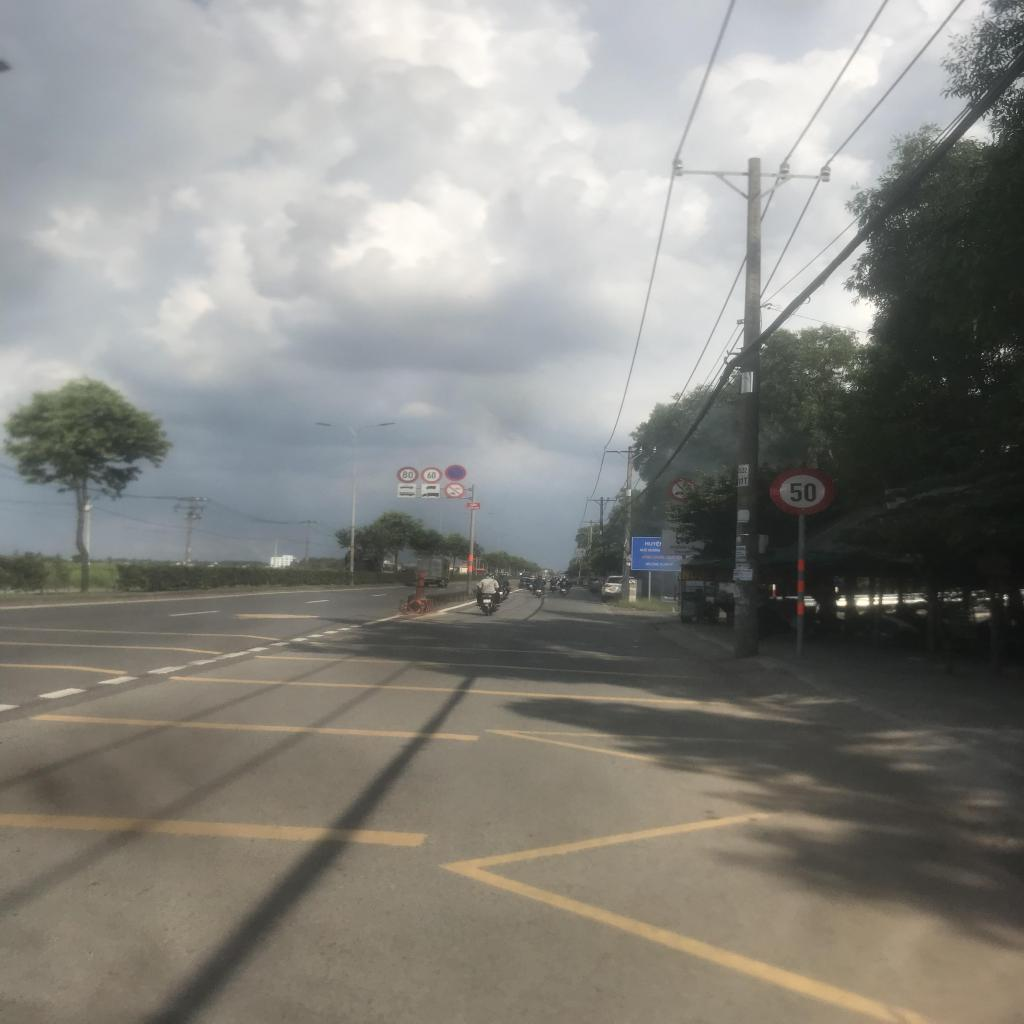cam_dung_xe_va_do_xe: (444, 464, 466, 482)
cam_o_to_tai_va_xe_khach: (668, 478, 699, 502)
cam_xe_2_banh_va_xe_3_banh_co_dong_co: (444, 482, 465, 499)
khac: (421, 490, 439, 498), (397, 483, 417, 490), (397, 490, 416, 497), (421, 484, 440, 491)
toc_do_toi_da_50: (771, 468, 835, 515)
toc_do_toi_da_60: (421, 466, 441, 484)
toc_do_toi_da_80: (398, 466, 418, 483)
